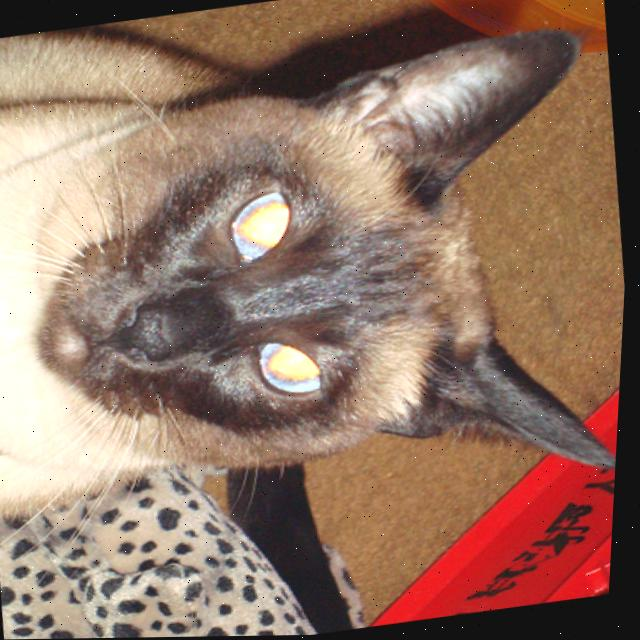Siamese: (0, 0, 640, 556)
